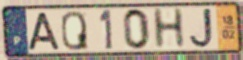0: (122, 8, 153, 51)
1: (97, 9, 114, 52)
A: (26, 11, 63, 52)
H: (151, 7, 187, 51)
J: (188, 7, 215, 50)
Q: (60, 9, 90, 51)
